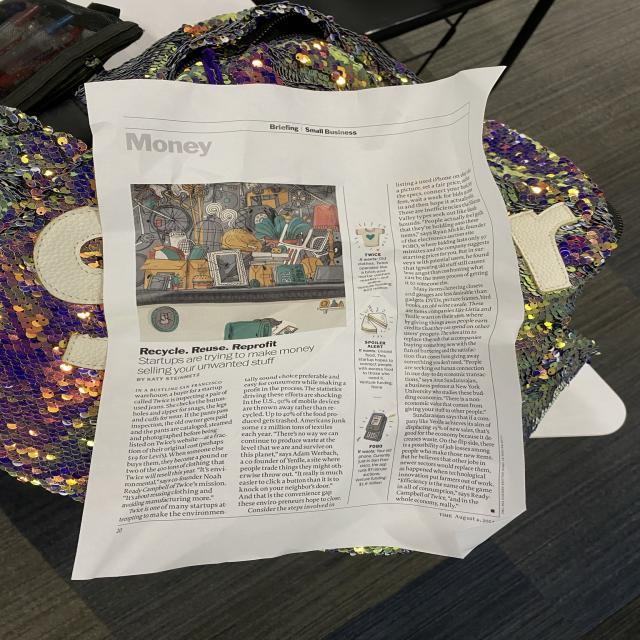document: (73, 68, 525, 579)
